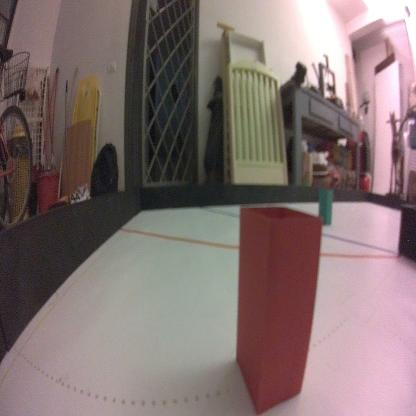green: (318, 188, 332, 225)
red: (236, 206, 322, 414)
